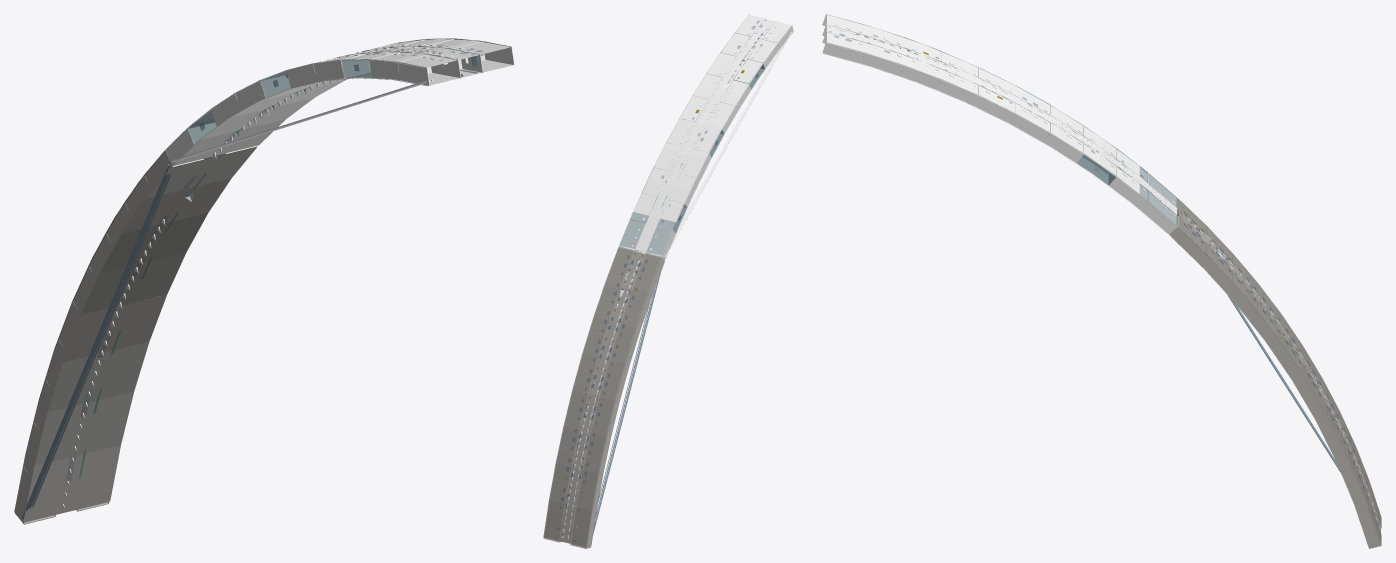
The model's file is xuanshu_interior_C45.glb.
3 renders of one model, left to right at view 1: azimuth 30°, elevation 25°; view 2: azimuth 150°, elevation 25°; view 3: azimuth 270°, elevation 25°, orthographic. The views are drawn at different scales.
Parts seen in each view (by area): view 1: UNIT-HAB-009_S0; view 2: UNIT-HAB-009_S0; view 3: UNIT-HAB-009_S0.
Part boxes in pixels (x1,y1,x2,y2): UNIT-HAB-009_S0: (14, 38, 514, 524); UNIT-HAB-009_S0: (543, 14, 793, 548); UNIT-HAB-009_S0: (822, 14, 1381, 548).
Bounding box in the file's own units: 17.31 × 143 × 143.
